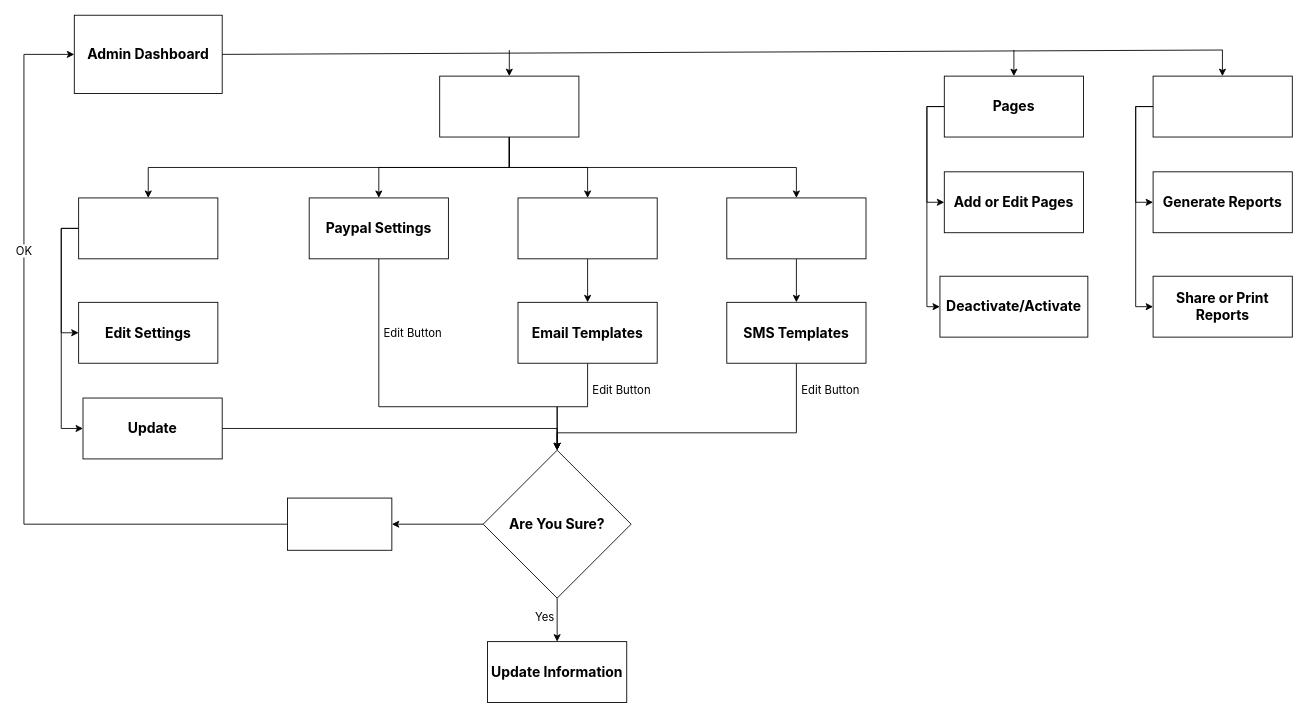
The diagram is 1308 pixels wide and 718 high, and some of its shapes have lost their labels. The box of each missing label's shape, as (x1, y1, x2, y2) in pixels:
Email Settings: (517, 197, 657, 259)
Go back to dashboard: (287, 497, 392, 550)
Master Settings: (439, 75, 579, 137)
Reports: (1152, 75, 1292, 137)
Site Settings: (78, 197, 218, 259)
SMS Settings: (726, 197, 866, 259)
